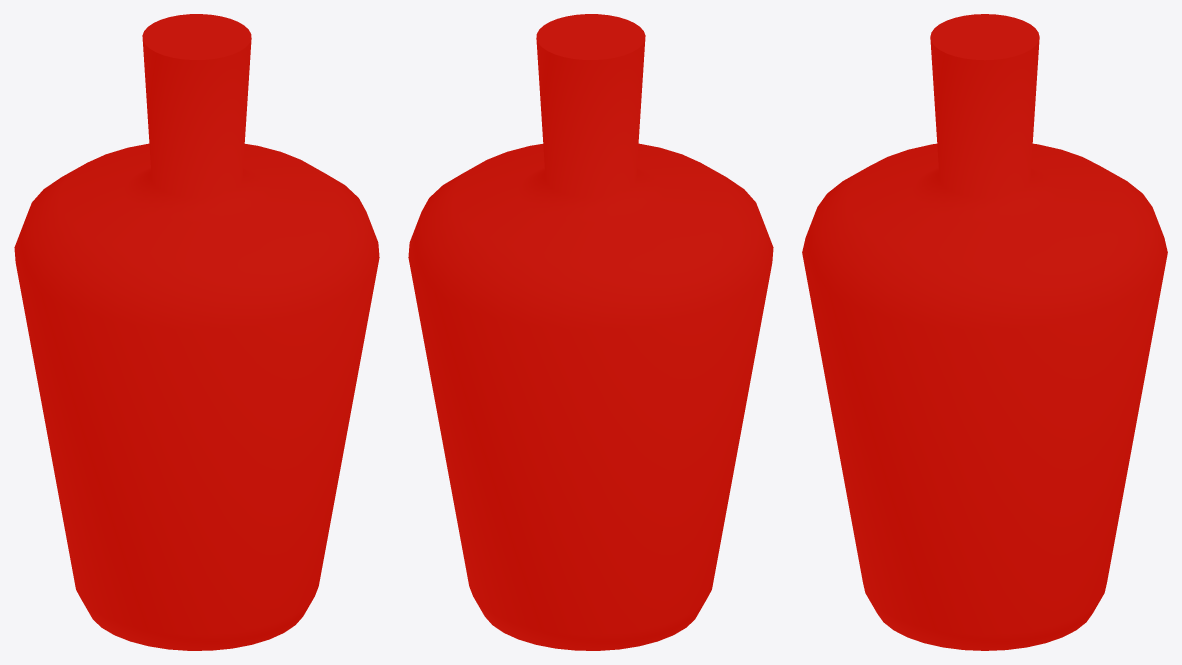
The model's file is Liquid.fbx.
3 views of the same model, side by side, from view 1: azimuth 30°, elevation 25°; view 2: azimuth 150°, elevation 25°; view 3: azimuth 270°, elevation 25° (orthographic).
Visible parts, largest first — view 1: Cube; view 2: Cube; view 3: Cube.
Boxes of the visible parts, bbox=[...] form: Cube: bbox=[14, 14, 379, 650]; Cube: bbox=[408, 14, 773, 650]; Cube: bbox=[802, 14, 1167, 650].
Size of the model in its own units: 2.25 by 2.25 by 3.91.
